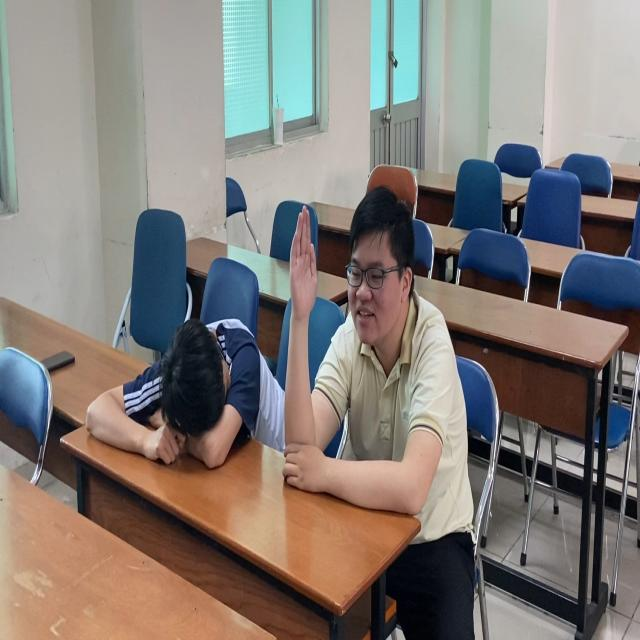raise_hand: (284, 184, 472, 525)
sleep: (84, 301, 273, 475)
